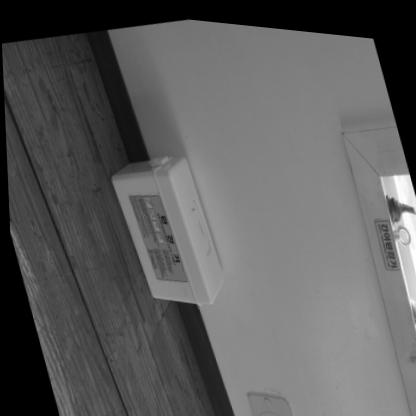DDL: (106, 148, 229, 315)
